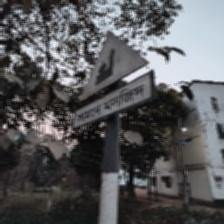Mosque in front: (69, 31, 153, 130)
